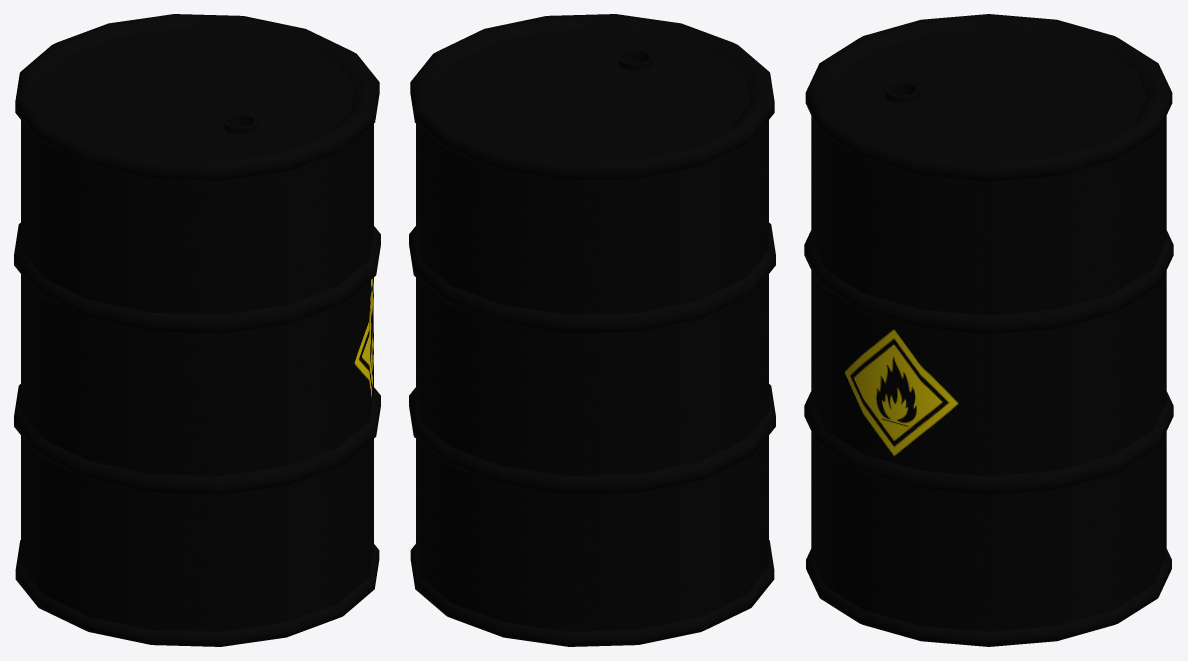
Rendered from oil_barrel.glb.
The picture shows the model from 3 angles, left to right: view 1: azimuth 30°, elevation 25°; view 2: azimuth 150°, elevation 25°; view 3: azimuth 270°, elevation 25°; orthographic projection.
Visible parts, largest first — view 1: Cylinder_0; view 2: Cylinder_0; view 3: Cylinder_0.
Boxes of the visible parts, box(x1,y1,x2,y2) form: Cylinder_0: box(14, 14, 380, 646); Cylinder_0: box(409, 14, 775, 646); Cylinder_0: box(804, 14, 1173, 646).
Size of the model in its own units: 0.6979 by 1.01 by 0.6979.
1 material, 1 textured.
